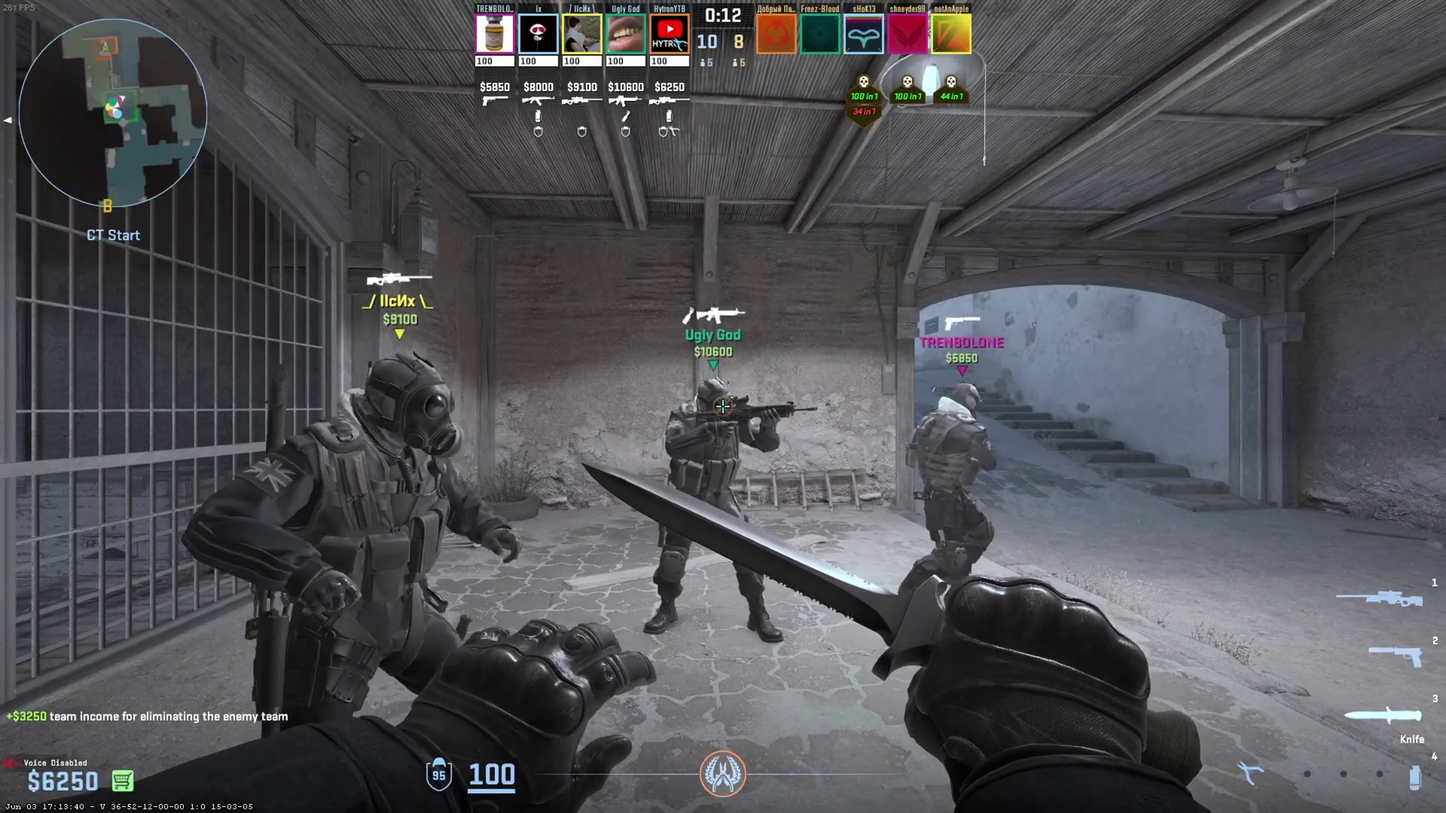CT: (232, 361, 461, 730), (648, 378, 780, 640), (913, 384, 994, 576)
